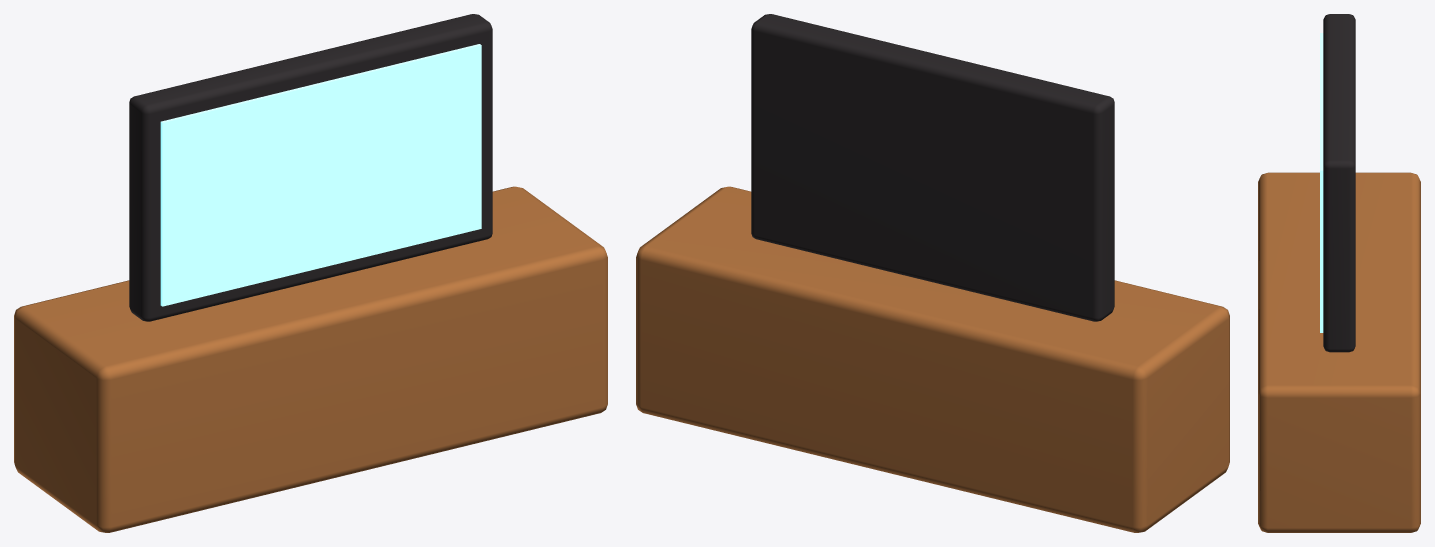
The model's file is tv_cabinet.glb.
3 renders of one model, left to right at view 1: azimuth 30°, elevation 25°; view 2: azimuth 150°, elevation 25°; view 3: azimuth 270°, elevation 25°, orthographic. The views are drawn at different scales.
Parts seen in each view (by area): view 1: Cab, Screen, TV; view 2: Cab, TV; view 3: Cab, TV, Screen.
Part boxes in pixels (x1=…): Cab: x1=14, y1=186, x2=607, y2=532; Screen: x1=160, y1=44, x2=481, y2=306; TV: x1=129, y1=14, x2=492, y2=321; Cab: x1=636, y1=186, x2=1229, y2=532; TV: x1=751, y1=14, x2=1114, y2=321; Cab: x1=1258, y1=172, x2=1420, y2=532; TV: x1=1323, y1=14, x2=1355, y2=352; Screen: x1=1320, y1=33, x2=1323, y2=332.
Bounding box in the file's own units: 1.6 × 1.15 × 0.5.
